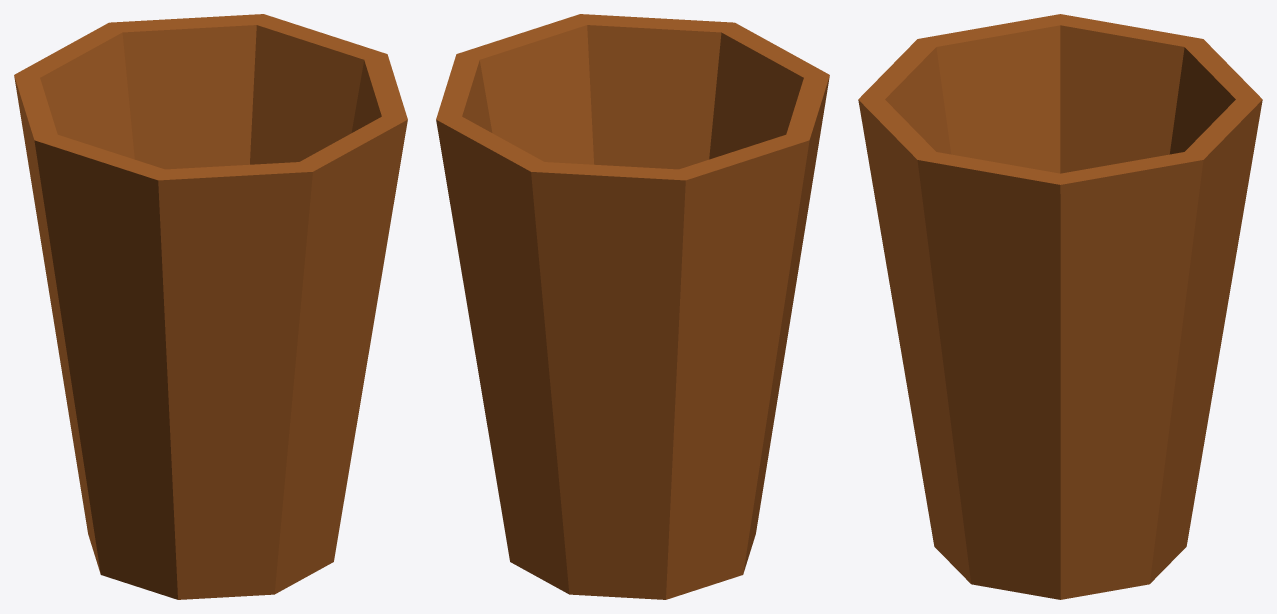
The model's file is SM_cup_03.FBX.
3 views of the same model, side by side, from view 1: azimuth 30°, elevation 25°; view 2: azimuth 150°, elevation 25°; view 3: azimuth 270°, elevation 25° (orthographic).
Visible parts, largest first — view 1: Object102; view 2: Object102; view 3: Object102.
Boxes of the visible parts, box(x1,y1,x2,y2) form: Object102: box(14, 14, 407, 599); Object102: box(436, 14, 829, 599); Object102: box(858, 14, 1262, 599).
Bounding box in the file's own units: 20.64 × 25.17 × 20.64.
